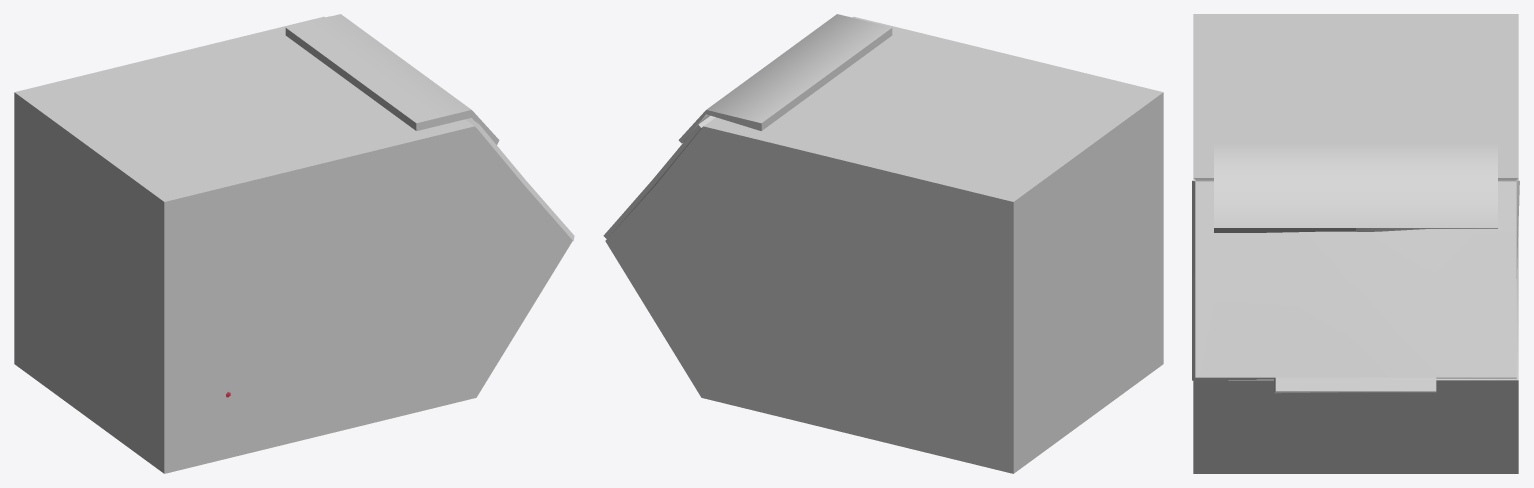
The model's file is Item_GummyWormVar_4.fbx.
3 views of the same model, side by side, from view 1: azimuth 30°, elevation 25°; view 2: azimuth 150°, elevation 25°; view 3: azimuth 270°, elevation 25° (orthographic). The views are drawn at different scales.
Visible parts, largest first — view 1: Item_GummyWormVar_4; view 2: Item_GummyWormVar_4; view 3: Item_GummyWormVar_4.
Part boxes in pixels (x1,y1,x2,y2): Item_GummyWormVar_4: [14, 14, 574, 473]; Item_GummyWormVar_4: [603, 14, 1163, 473]; Item_GummyWormVar_4: [1192, 14, 1519, 473].
Bounding box in the file's own units: 73.54 × 47.02 × 46.06.
Materials: 2 (1 with a texture image).
